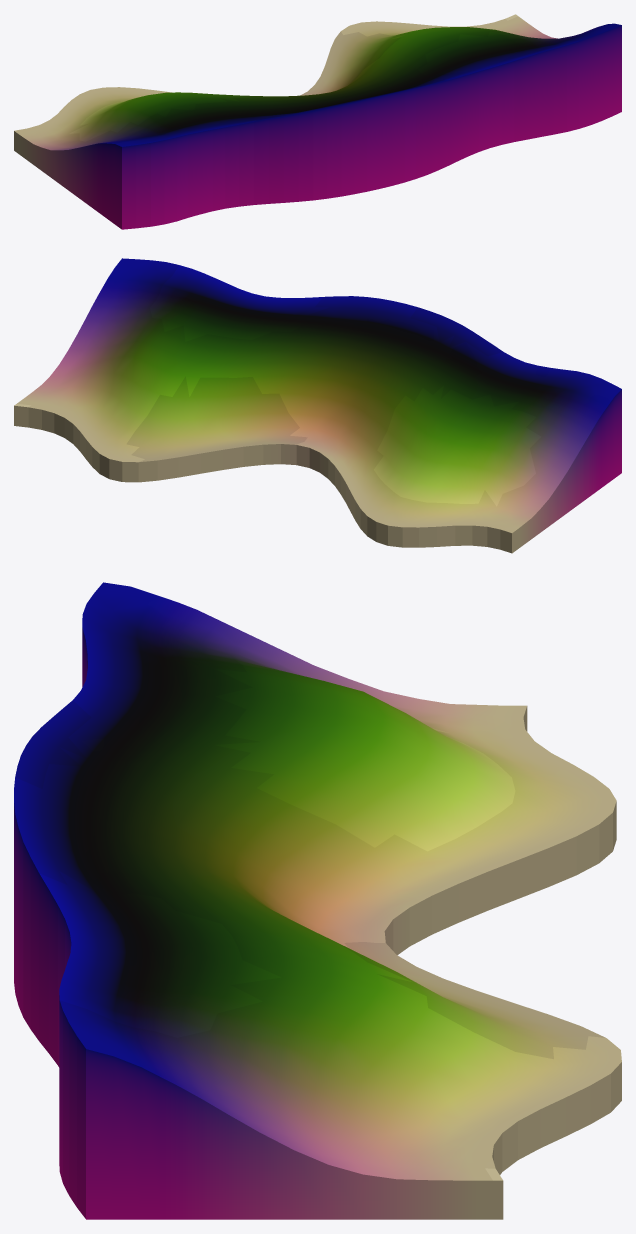
File: SM_ShorelineSite_CurvedBed.fbx
3 views of the same model, one above another, from view 1: azimuth 30°, elevation 25°; view 2: azimuth 150°, elevation 25°; view 3: azimuth 270°, elevation 25° (orthographic). The views are drawn at different scales.
Parts seen in each view (by area): view 1: SM_ShorelineSite_CurvedBed; view 2: SM_ShorelineSite_CurvedBed; view 3: SM_ShorelineSite_CurvedBed.
Boxes of the visible parts, x1,y1,x2,y2 form: SM_ShorelineSite_CurvedBed: (14,14,621,229); SM_ShorelineSite_CurvedBed: (14,258,621,553); SM_ShorelineSite_CurvedBed: (14,582,621,1219).
Bounding box in the file's own units: 14.3 × 7.74 × 2.54.
